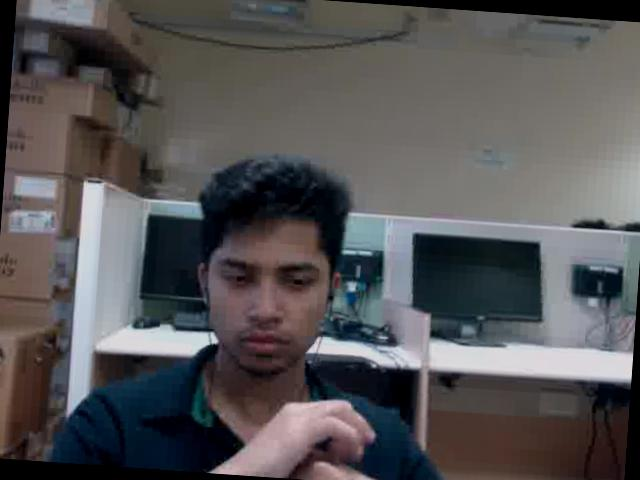bingung: (208, 214, 338, 375)
